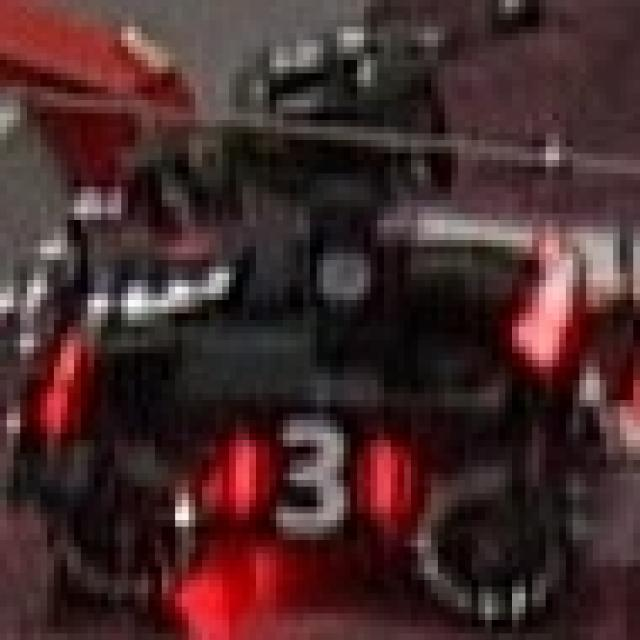R2: (91, 220, 239, 360)
R3: (188, 393, 424, 547)
